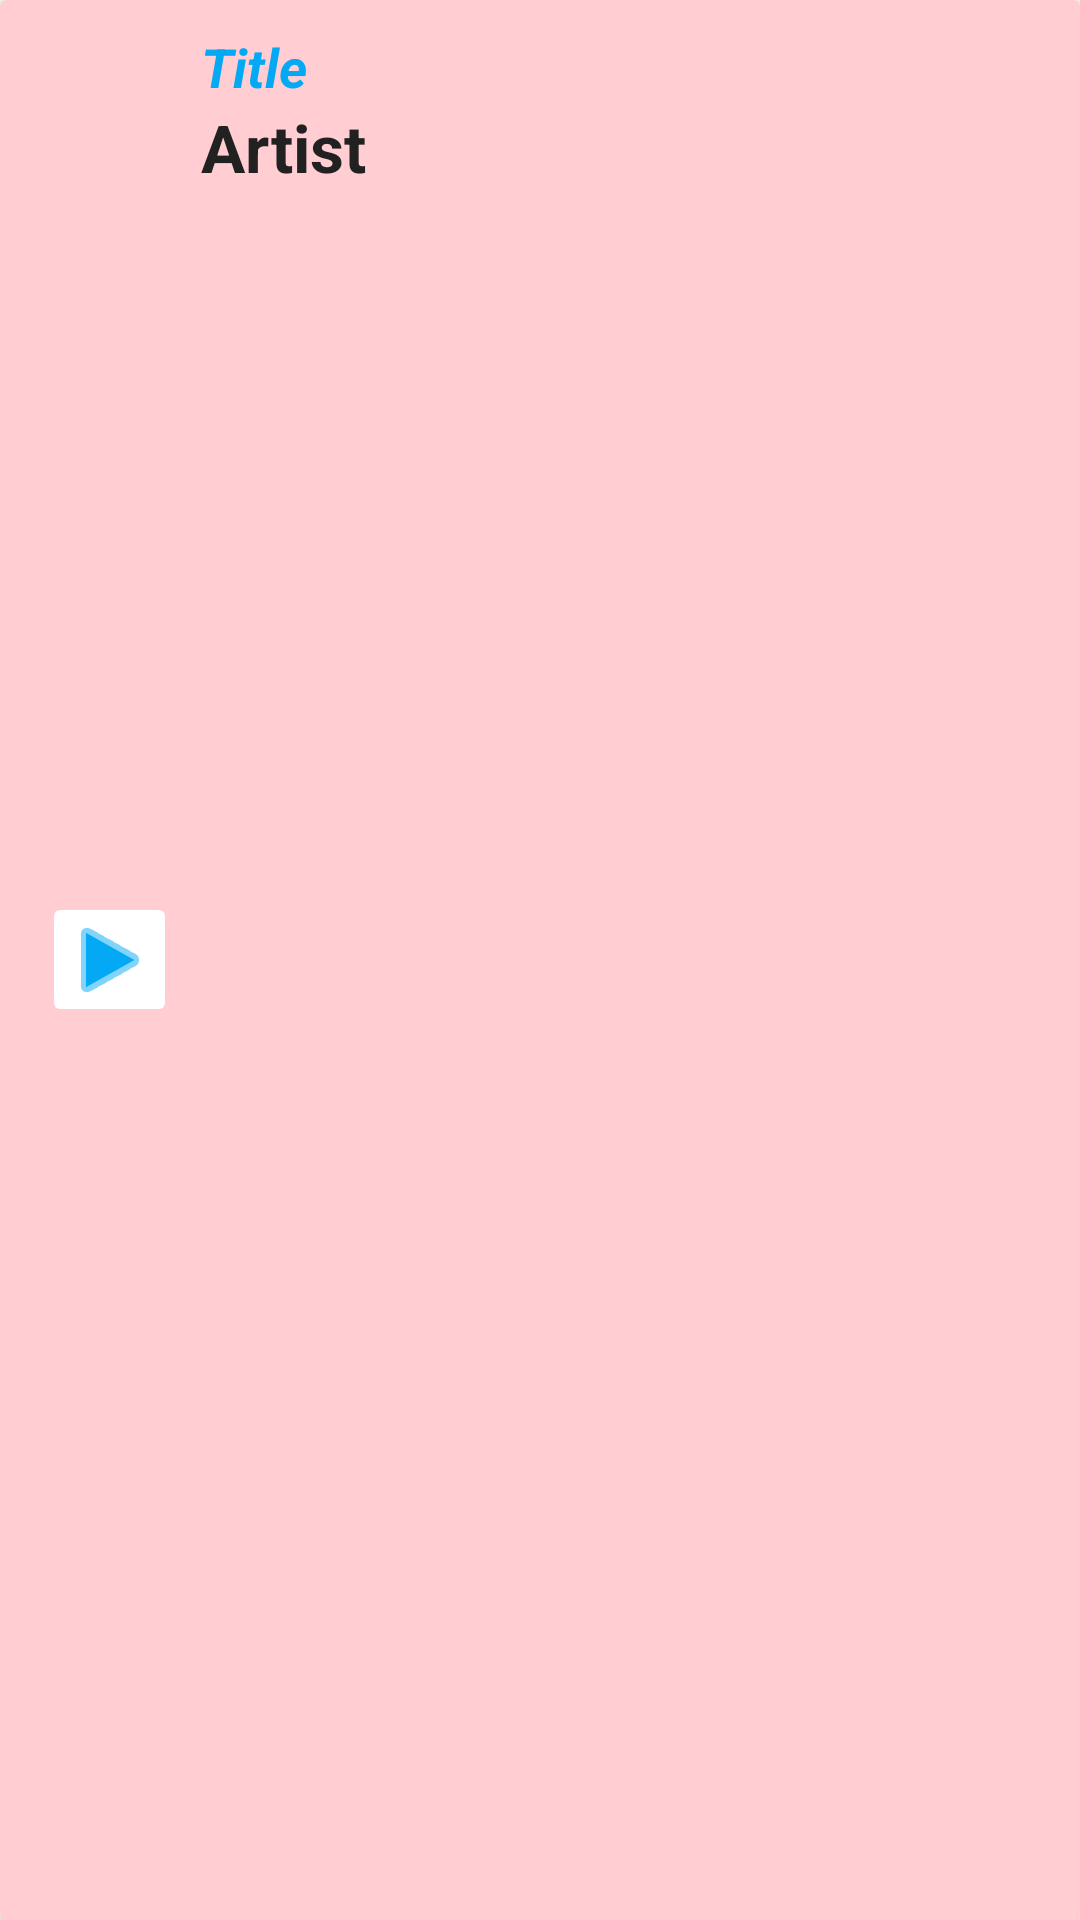

Icon bounding boxes for this 1080px×1920px phone screenshot, format (x1, y1, x2, y2):
play: (54, 910, 165, 1009)
